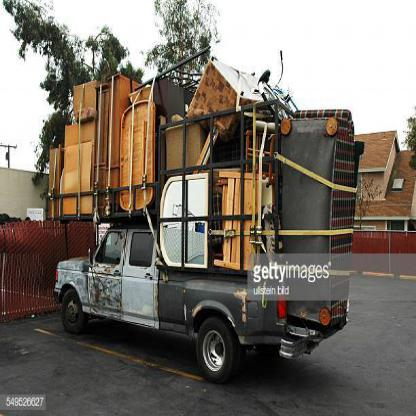overloaded-truck: (40, 71, 363, 265)
